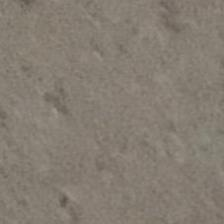Non_Crack: (0, 17, 224, 201)
